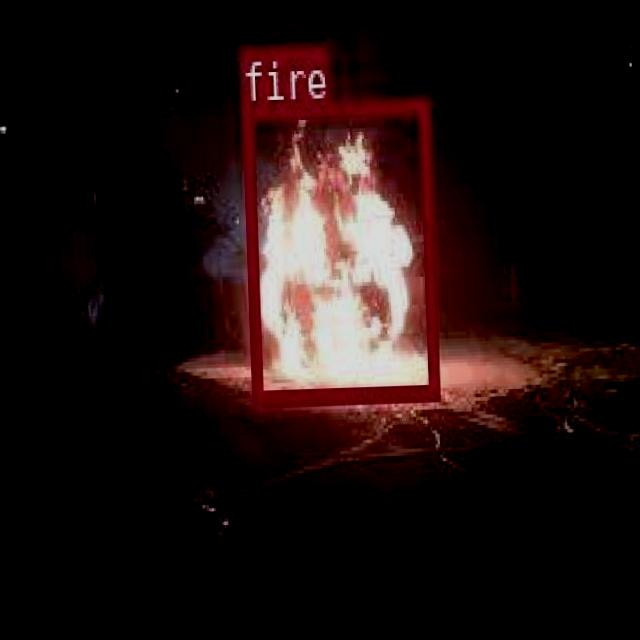fire: (241, 98, 436, 404)
